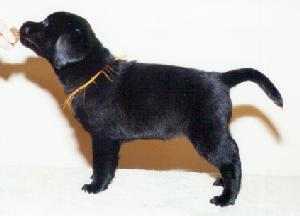tail: (221, 65, 287, 109)
